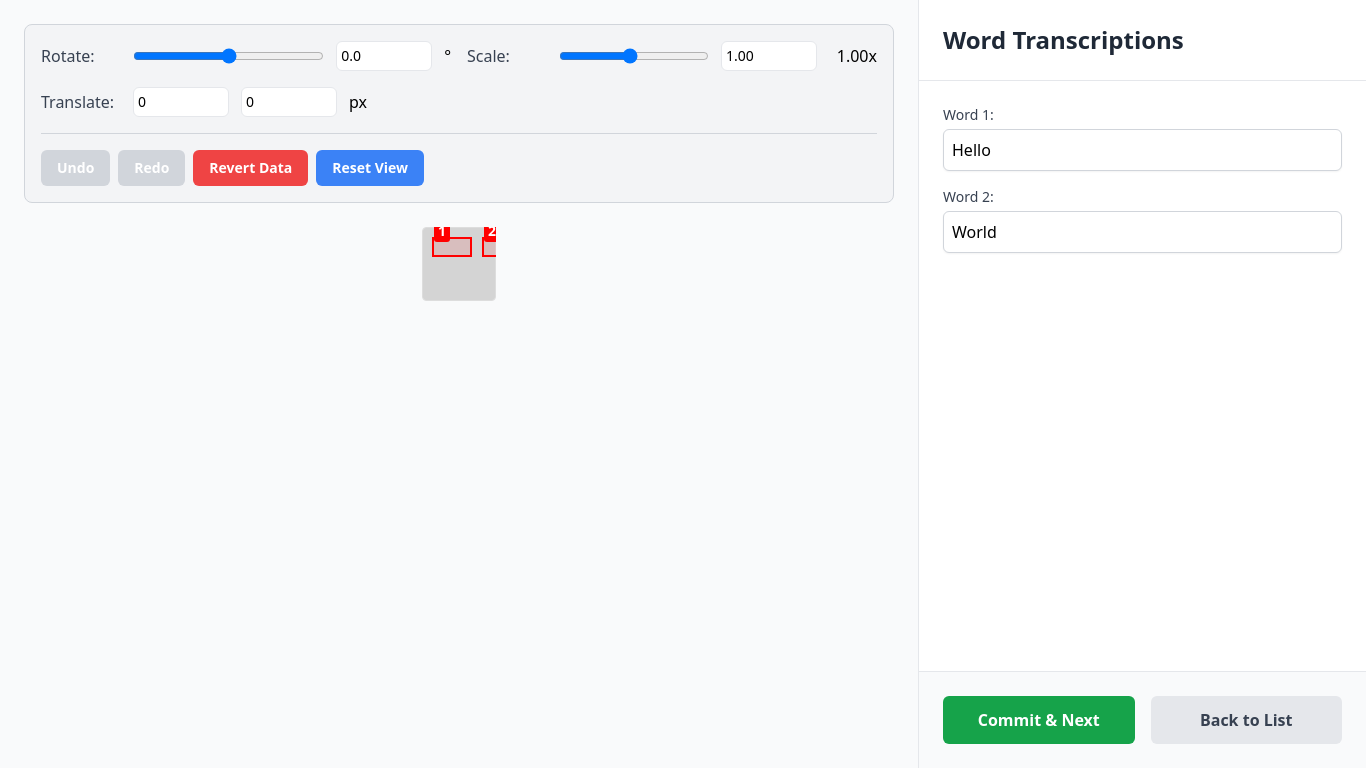
Scenario: ValidatePage › reverts data to original source on confirmation
Replace the text in the field showing "Hello" with "Changed": (1142, 150) left=943, top=129, right=1342, bottom=171
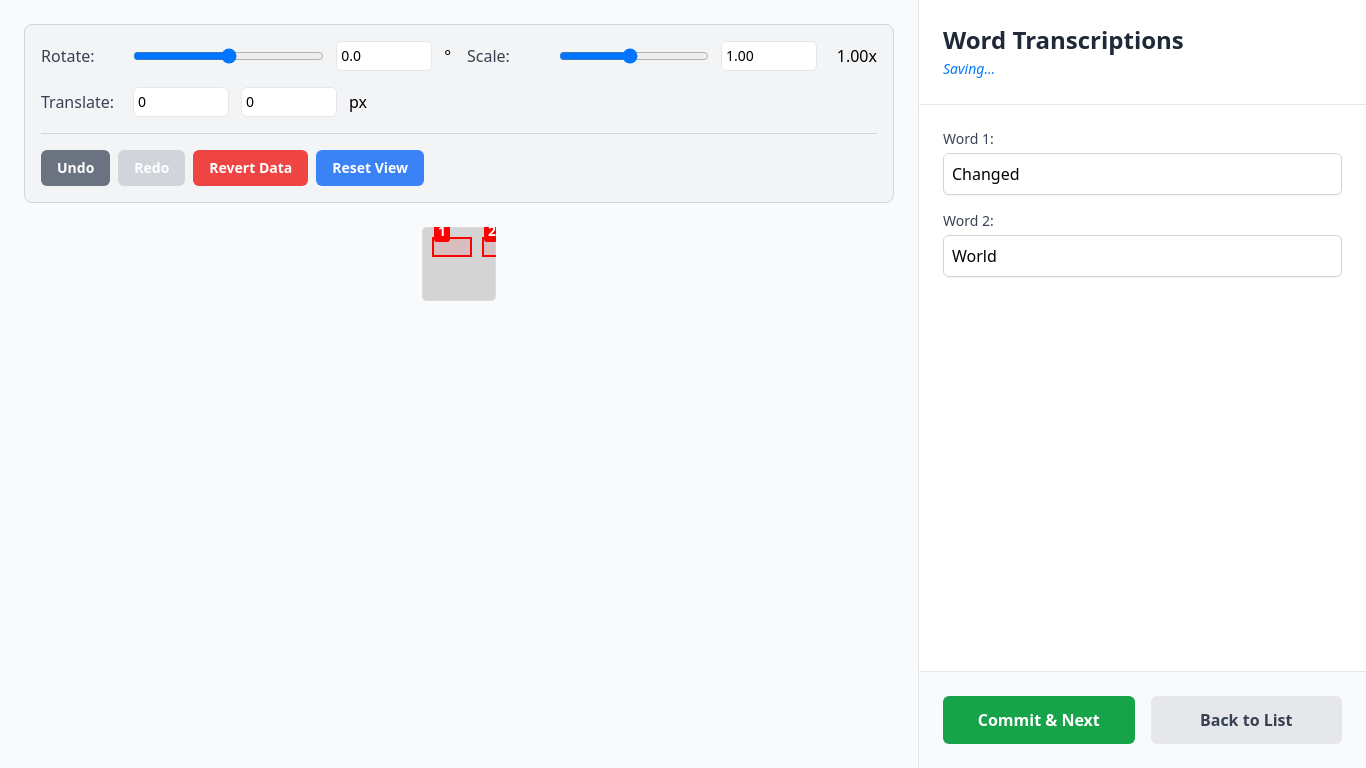
Click the button "Revert Data": (251, 168) left=193, top=150, right=308, bottom=186
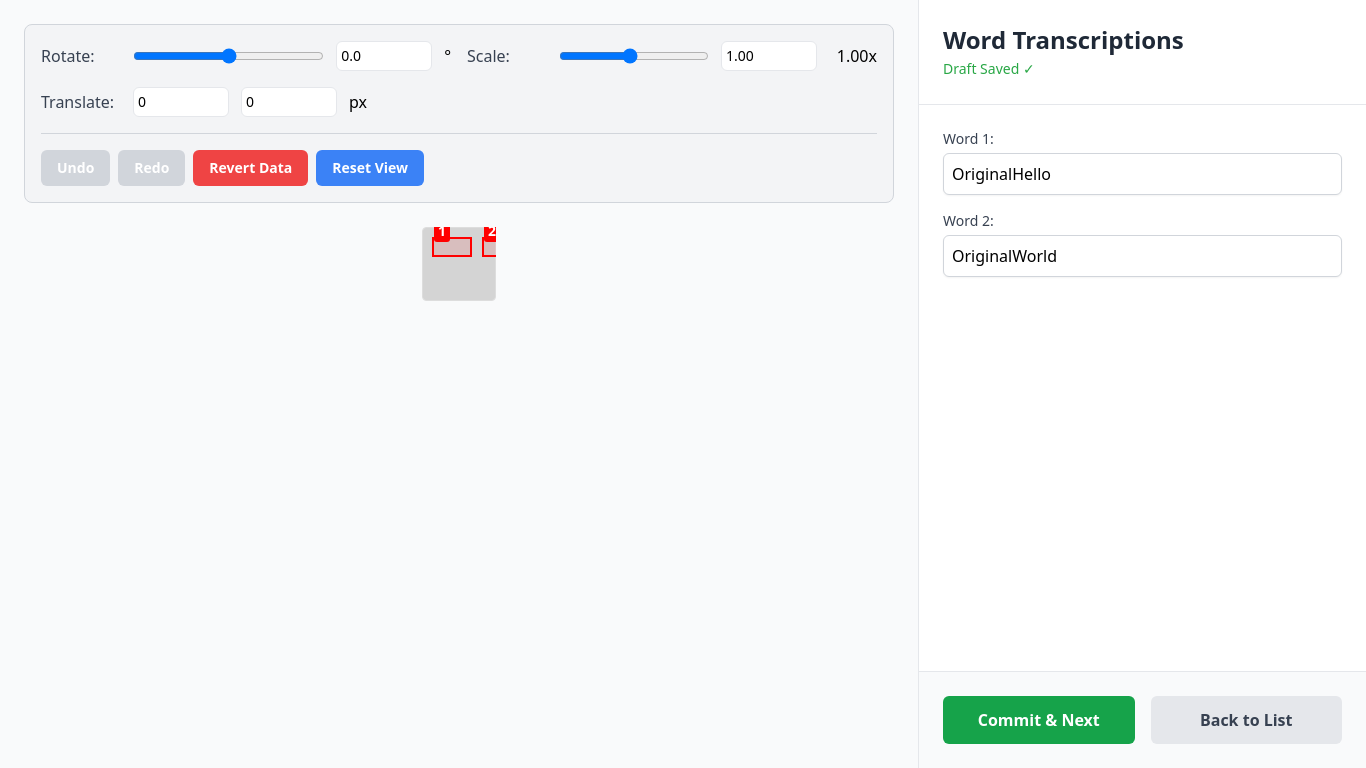
Expected: the field showing "OriginalHello" is shown, left=943, top=153, right=1342, bottom=195
Expected: the field showing "OriginalWorld" is shown, left=943, top=235, right=1342, bottom=277
